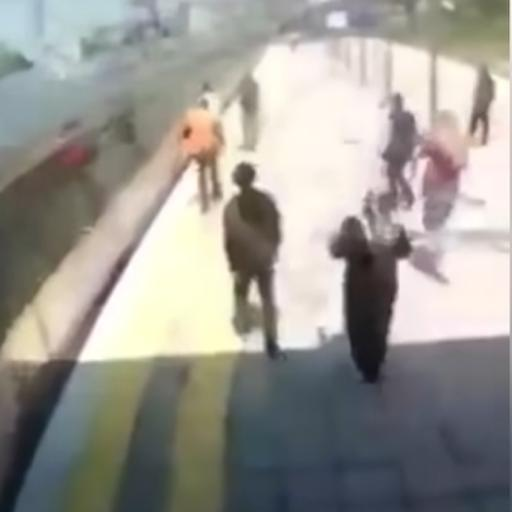Humans: (317, 168, 423, 387), (217, 151, 308, 365), (415, 103, 465, 309), (167, 88, 237, 214), (367, 78, 421, 186), (235, 61, 283, 162), (465, 55, 502, 159), (282, 18, 309, 65)
